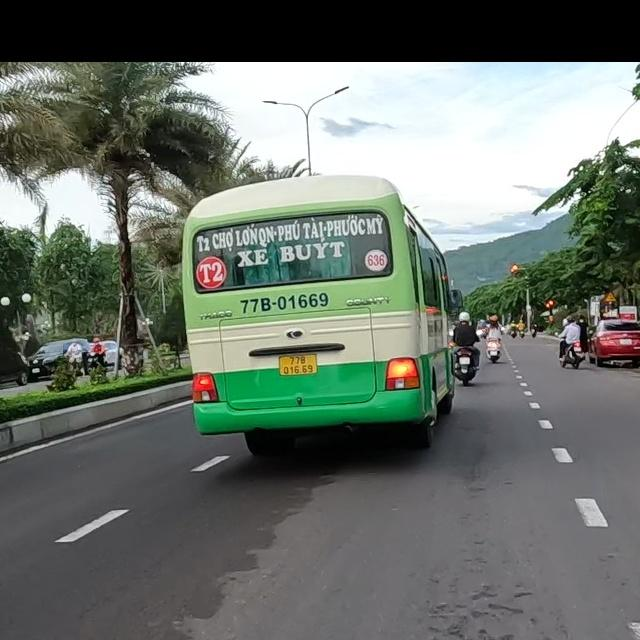license-plate: (278, 354, 318, 376)
